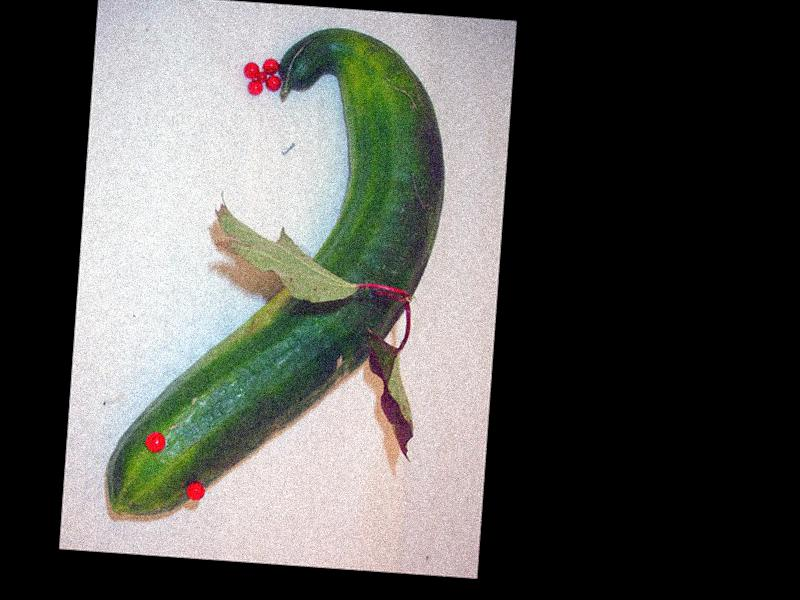Cucumber: (104, 14, 455, 536)
